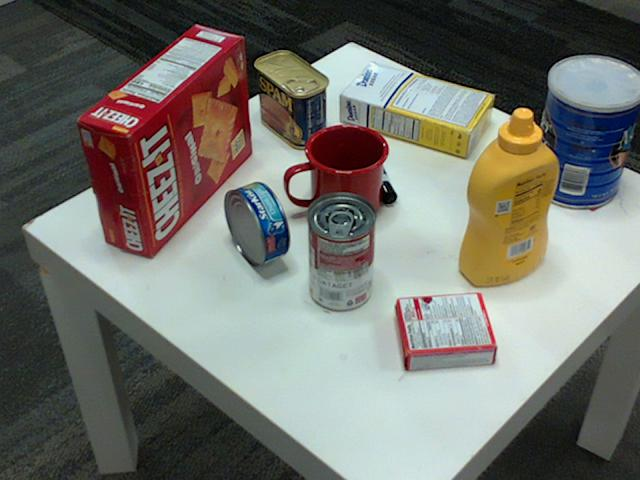cracker_box: (77, 22, 252, 255)
gelatin_box: (392, 293, 497, 370)
large_marker: (356, 137, 396, 203)
master_chef_can: (530, 56, 639, 208)
mug: (286, 121, 389, 224)
mustard_bottle: (457, 108, 559, 284)
potted_meat_can: (252, 52, 327, 149)
sugar_box: (340, 62, 497, 157)
tomato_soup_can: (307, 192, 376, 310)
tuna_fish_can: (225, 181, 290, 267)
